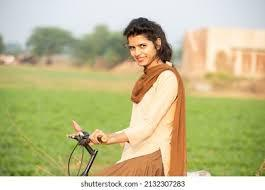Human: (95, 12, 193, 174)
